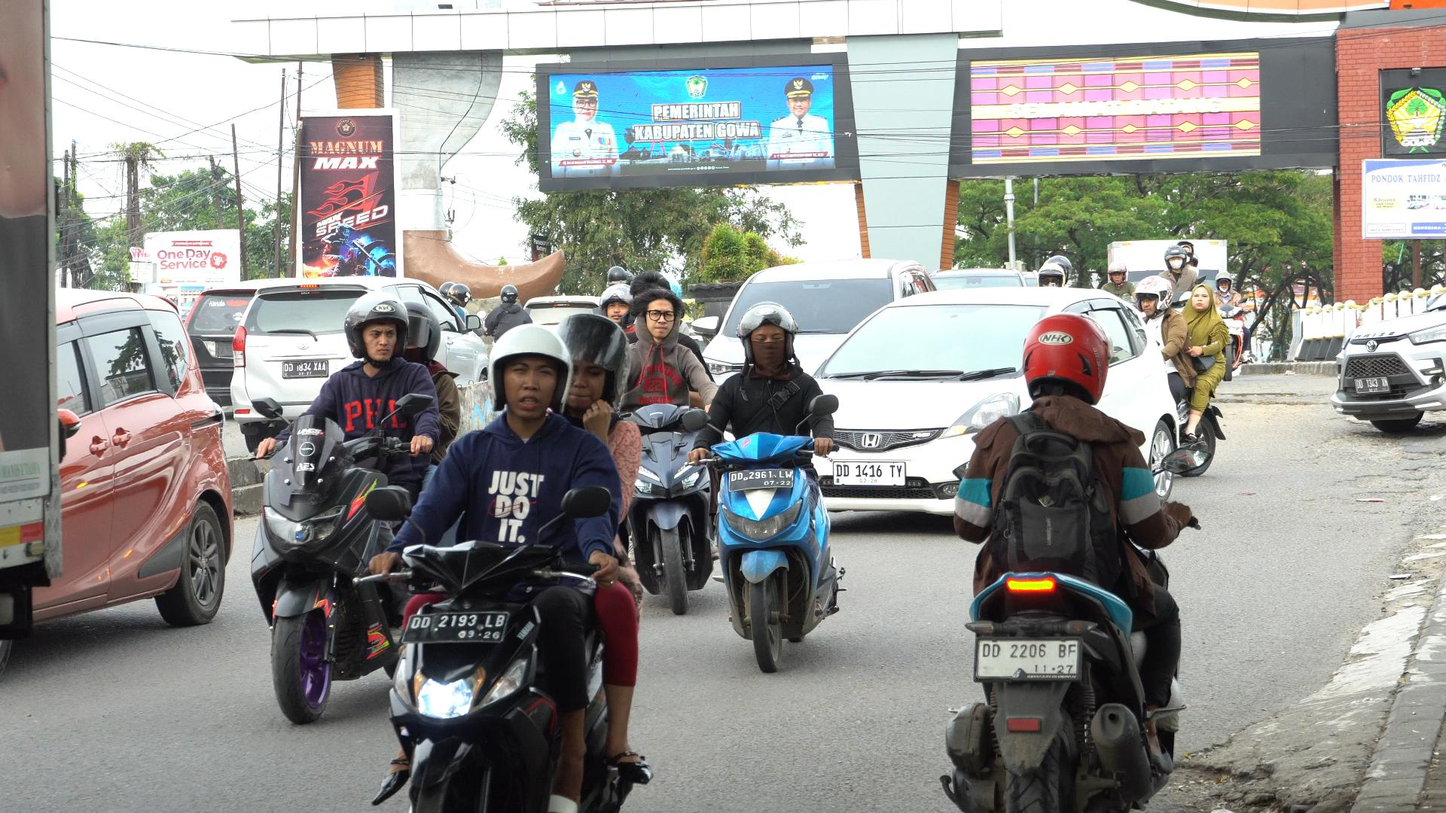number-plate: (401, 610, 512, 642), (726, 465, 795, 491)
